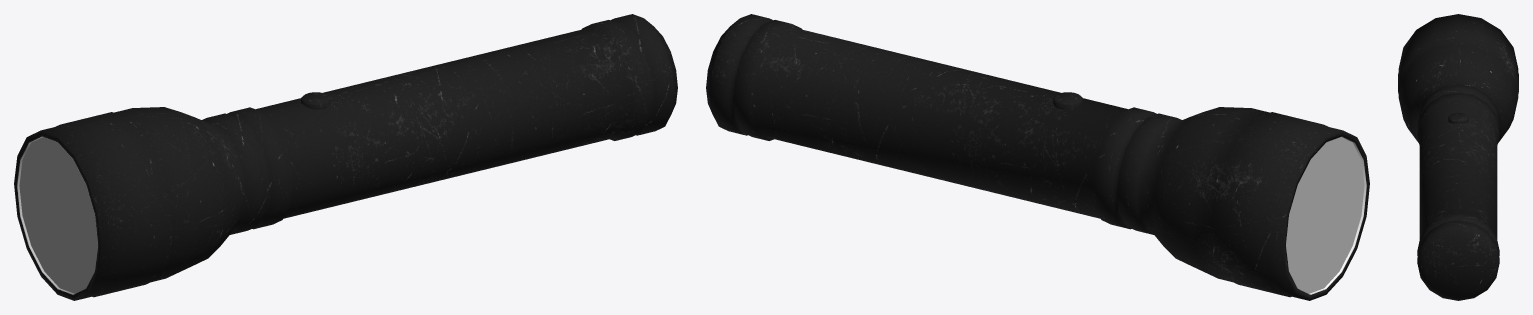
The model's file is Flashlight.fbx.
The picture shows the model from 3 angles, left to right: view 1: azimuth 30°, elevation 25°; view 2: azimuth 150°, elevation 25°; view 3: azimuth 270°, elevation 25°; orthographic projection. The views are drawn at different scales.
Visible parts, largest first — view 1: Flashlight, Glass; view 2: Flashlight, Glass; view 3: Flashlight.
Part boxes in pixels (left/top/right/bottom): Flashlight: left=14, top=14, right=677, bottom=300; Glass: left=19, top=137, right=97, bottom=293; Flashlight: left=706, top=14, right=1369, bottom=300; Glass: left=1286, top=137, right=1364, bottom=293; Flashlight: left=1398, top=14, right=1518, bottom=300.
Size of the model in its own units: 445 by 114 by 114.
